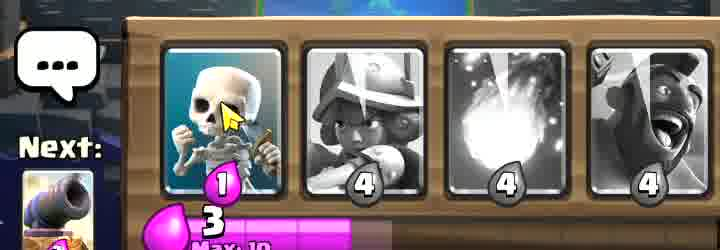cannon: (21, 171, 94, 250)
hog-rider: (586, 61, 681, 203)
